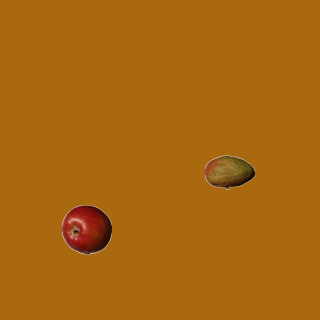Apple Braeburn: (61, 204, 111, 254)
Papaya: (204, 147, 254, 197)
